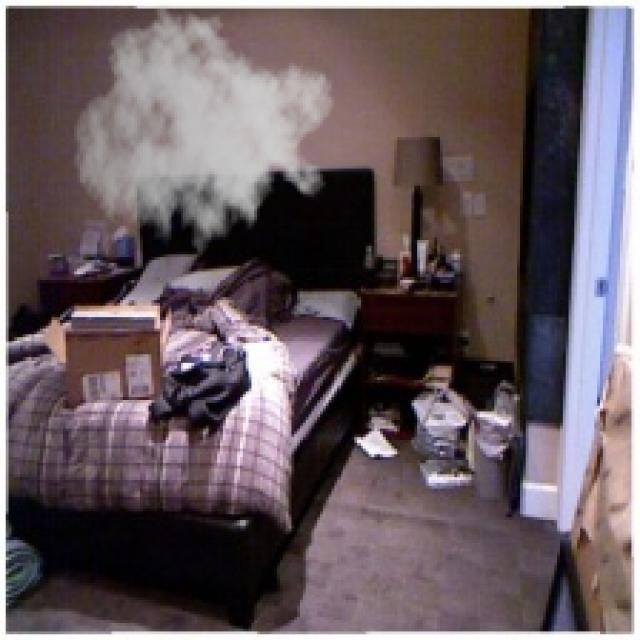smoke: (72, 3, 334, 271)
